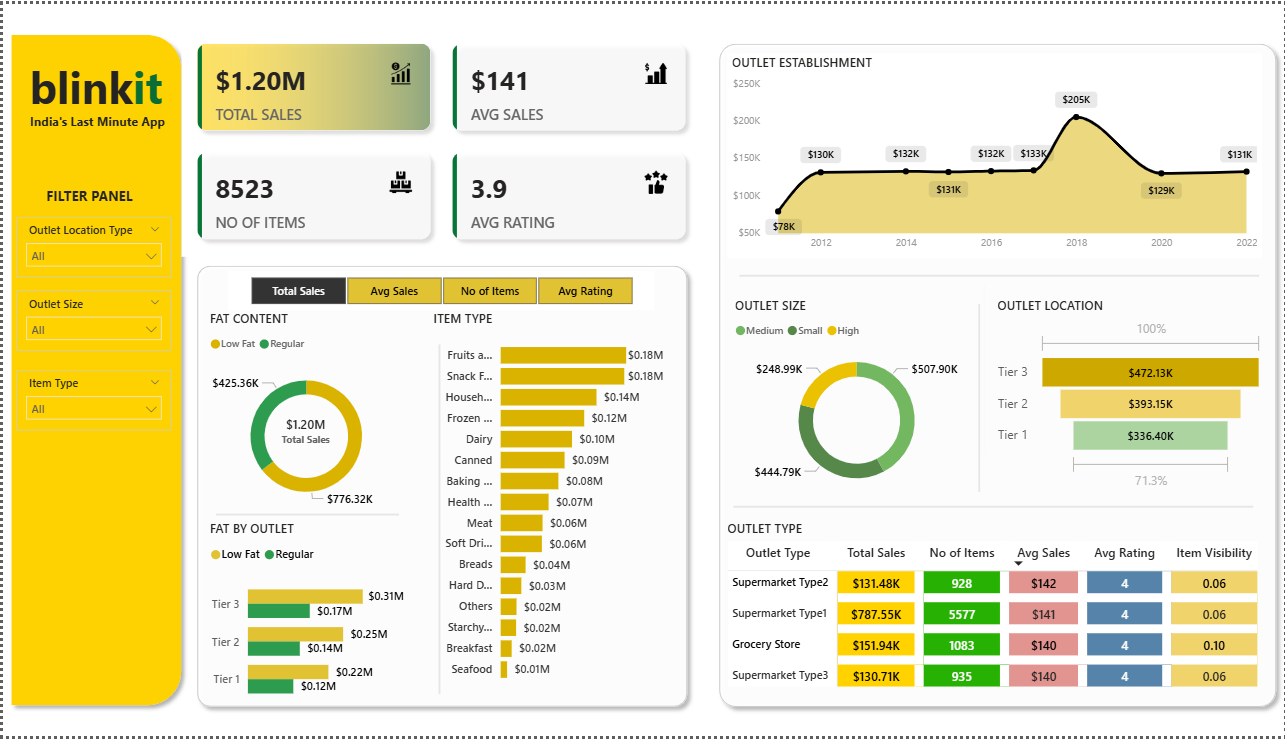

Layout of this report page (visuals, bound fields, positions):
{"tool":"powerbi","page":{"name":"Page 2","canvas":[1400,800],"ordinal":0},"visuals":[{"type":"shape","box":[0,24.5,203.8,750.9],"z":0},{"type":"textbox","box":[488.7,100,167.9,56.6],"z":1000},{"type":"textbox","box":[400,0,173.6,67.9],"z":2000},{"type":"textbox","box":[18.9,52.8,164.2,75.5],"z":3000},{"type":"textbox","box":[24.5,113.2,158.5,28.3],"z":4000},{"type":"shape","box":[203.6,276.8,553.6,500],"z":5000},{"type":"cardVisual","fields":{"Data":["BlinkIT Grocery Data.Total Sales","BlinkIT Grocery Data.Avg Sales","BlinkIT Grocery Data.No of Items","BlinkIT Grocery Data.Avg Rating"]},"box":[194.6,26.8,569.6,250],"z":6000},{"type":"donutChart","title":"FAT CONTENT","fields":{"Category":["BlinkIT Grocery Data.Item Fat Content"],"Y":["BlinkIT Grocery Data.Total Sales"]},"box":[221.4,333.9,219.6,230.4],"z":7000},{"type":"slicer","fields":{"Values":["metrics.metrics"]},"box":[246.4,291.1,466.1,42.9],"z":8000},{"type":"cardVisual","fields":{"Data":["BlinkIT Grocery Data.Total Sales"]},"box":[280.4,432.1,101.8,60.7],"z":9000},{"type":"clusteredBarChart","title":"FAT BY OUTLET","fields":{"Category":["BlinkIT Grocery Data.Outlet Location Type"],"Series":["BlinkIT Grocery Data.Item Fat Content"],"Y":["BlinkIT Grocery Data.Total Sales"]},"box":[221.4,564.3,221.4,212.5],"z":10000},{"type":"shape","box":[232.1,550,200,14.3],"z":11000},{"type":"shape","box":[1066.1,307.1,14.3,185.7],"z":12000},{"type":"barChart","title":"ITEM TYPE","fields":{"Category":["BlinkIT Grocery Data.Item Type"],"Y":["BlinkIT Grocery Data.Total Sales"]},"box":[466.1,333.9,260.7,416.1],"z":13000},{"type":"shape","box":[773.2,33.9,626.8,742.9],"z":14000},{"type":"lineChart","title":"OUTLET ESTABLISHMENT","fields":{"Category":["BlinkIT Grocery Data.Outlet Establishment Year"],"Y":["BlinkIT Grocery Data.Total Sales"]},"box":[791.1,53.6,583.9,223.2],"z":15000},{"type":"shape","box":[798.2,546.4,567.9,7.1],"z":16000},{"type":"donutChart","title":"OUTLET SIZE","fields":{"Category":["BlinkIT Grocery Data.Outlet Size"],"Y":["BlinkIT Grocery Data.Total Sales"]},"box":[794.6,319.6,275,225],"z":17000},{"type":"shape","box":[1060.7,328.6,12.5,205.4],"z":18000},{"type":"shape","box":[466.4,371.8,19.6,382.1],"z":19000},{"type":"funnel","title":"OUTLET LOCATION","fields":{"Category":["BlinkIT Grocery Data.Outlet Location Type"],"Y":["BlinkIT Grocery Data.Total Sales"]},"box":[1082.1,319.6,300,216.1],"z":20000},{"type":"shape","box":[804.6,293.9,567.9,7.1],"z":21000},{"type":"pivotTable","title":"OUTLET TYPE","fields":{"Rows":["BlinkIT Grocery Data.Outlet Type"],"Values":["BlinkIT Grocery Data.Total Sales","BlinkIT Grocery Data.No of Items","BlinkIT Grocery Data.Avg Sales","BlinkIT Grocery Data.Avg Rating","Avg(BlinkIT Grocery Data.Item Visibility)"]},"box":[787.5,564.3,601.8,207.1],"z":22000},{"type":"slicer","fields":{"Values":["BlinkIT Grocery Data.Outlet Location Type"]},"box":[14.3,232.1,169.6,66.1],"z":23000},{"type":"slicer","fields":{"Values":["BlinkIT Grocery Data.Outlet Size"]},"box":[14.3,312.5,169.6,66.1],"z":24000},{"type":"slicer","fields":{"Values":["BlinkIT Grocery Data.Item Type"]},"box":[14.3,400,169.6,66.1],"z":25000},{"type":"textbox","box":[42.9,192.9,116.1,39.3],"z":25001}]}

Visuals, with their boxes in screenshot pixels (x1, y1, x2, y2), scaled from the page's 1400x800 canvas onto the 1285x739 screenshot:
shape: 0:23:187:716
textbox: 449:92:603:145
textbox: 367:0:526:63
textbox: 17:49:168:119
textbox: 22:105:168:131
shape: 187:256:695:718
cardVisual - BlinkIT Grocery Data.Total Sales x BlinkIT Grocery Data.Avg Sales: 179:25:701:256
"FAT CONTENT" donutChart: 203:308:405:521
slicer - metrics.metrics: 226:269:654:309
cardVisual - BlinkIT Grocery Data.Total Sales: 257:399:351:455
"FAT BY OUTLET" clusteredBarChart: 203:521:406:718
shape: 213:508:397:521
shape: 979:284:992:455
"ITEM TYPE" barChart: 428:308:667:693
shape: 710:31:1284:718
"OUTLET ESTABLISHMENT" lineChart: 726:50:1262:256
shape: 733:505:1254:511
"OUTLET SIZE" donutChart: 729:295:982:503
shape: 974:304:985:493
shape: 428:343:446:696
"OUTLET LOCATION" funnel: 993:295:1269:495
shape: 739:271:1260:278
"OUTLET TYPE" pivotTable: 723:521:1275:713
slicer - BlinkIT Grocery Data.Outlet Location Type: 13:214:169:275
slicer - BlinkIT Grocery Data.Outlet Size: 13:289:169:350
slicer - BlinkIT Grocery Data.Item Type: 13:370:169:431
textbox: 39:178:146:214
